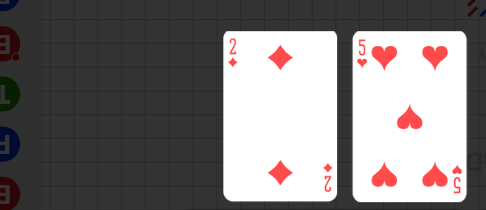2D: (227, 36, 239, 69)
5H: (451, 163, 463, 195)
